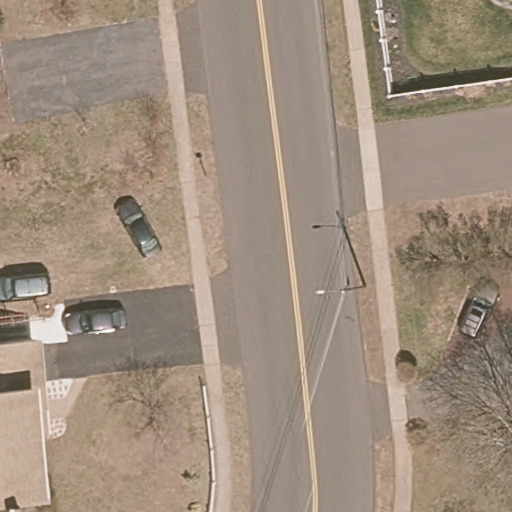DT: (315, 284, 367, 295)
